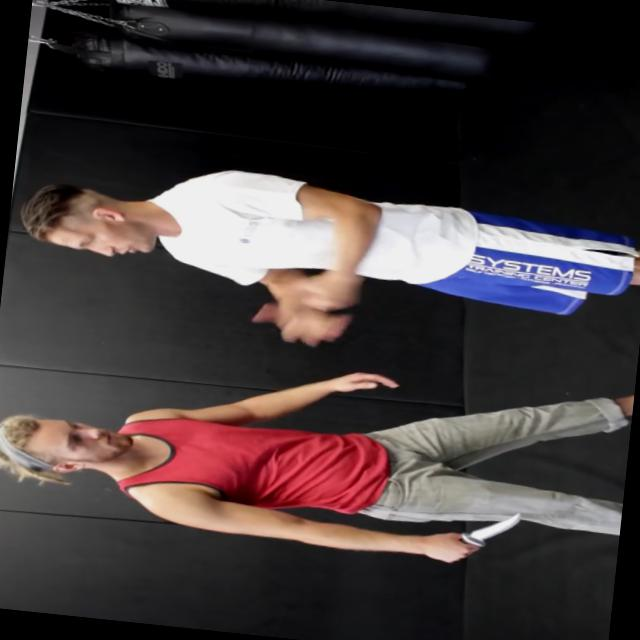knife: (437, 497, 535, 572)
